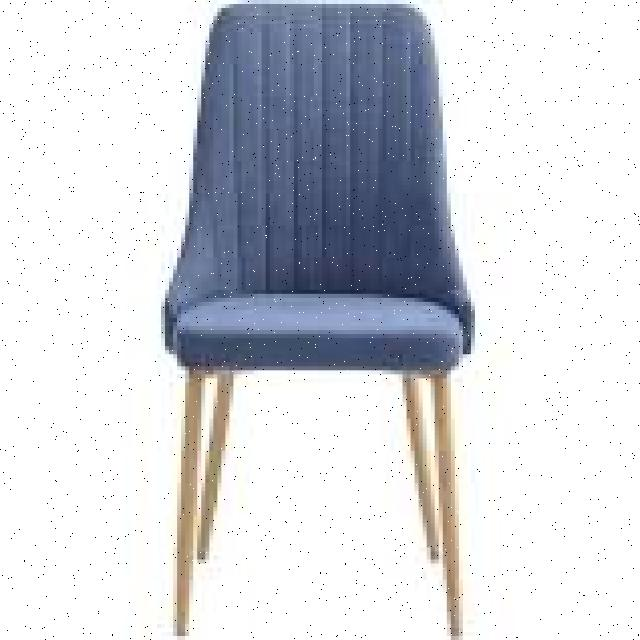bottle: (155, 0, 478, 632)
